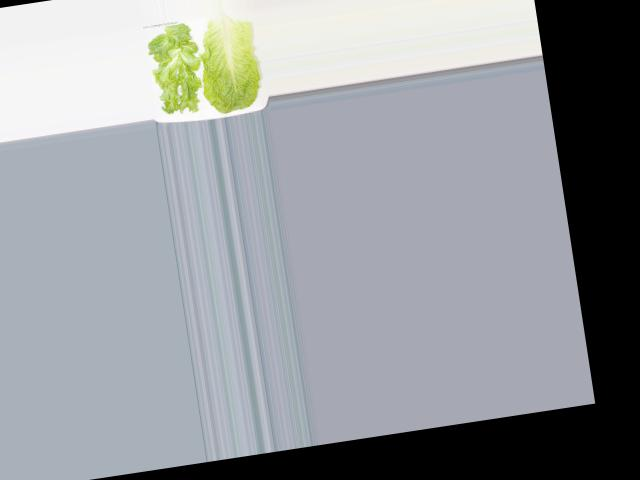lettuce: (140, 24, 205, 118)
